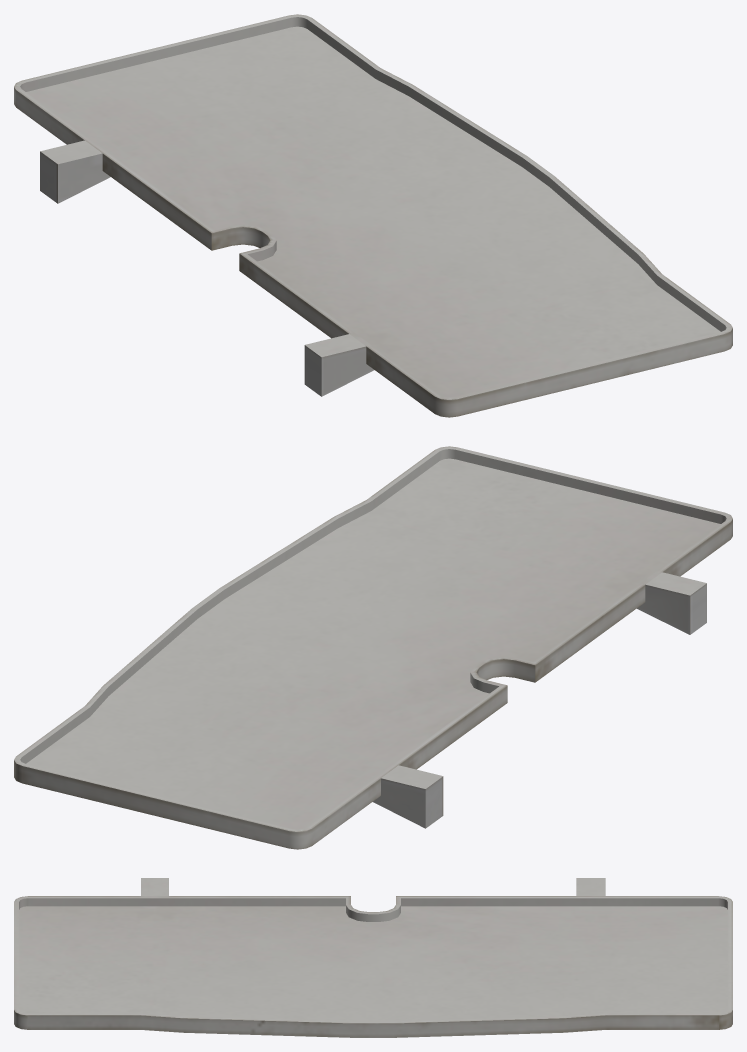
The model's file is SM_光谱仪_板子.FBX.
3 renders of one model, top to bottom at view 1: azimuth 30°, elevation 25°; view 2: azimuth 150°, elevation 25°; view 3: azimuth 270°, elevation 25°, orthographic. The views are drawn at different scales.
Bounding box in the file's own units: 0.2593 × 0.0272 × 0.5423.
